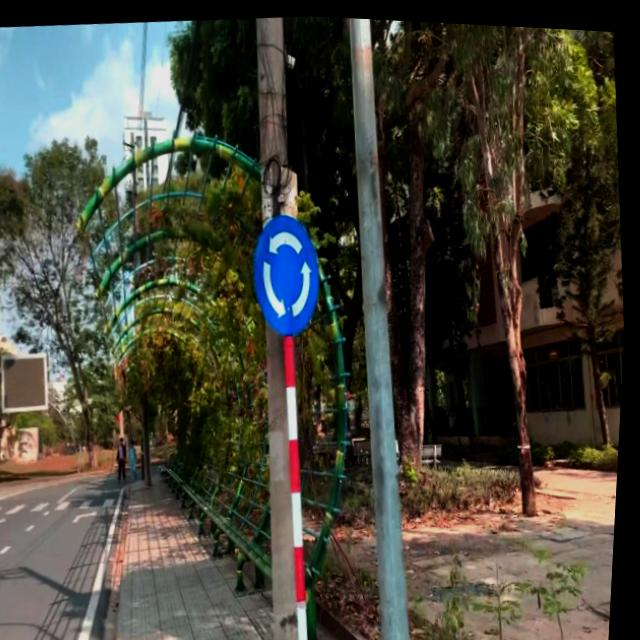Noi giao nhau chay theo vong xuyen: (247, 206, 330, 338)
